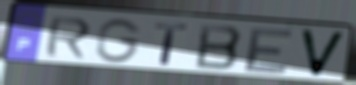B: (193, 22, 245, 72)
E: (241, 27, 297, 75)
G: (94, 17, 144, 65)
R: (42, 15, 94, 60)
T: (152, 21, 191, 67)
V: (297, 28, 348, 79)
